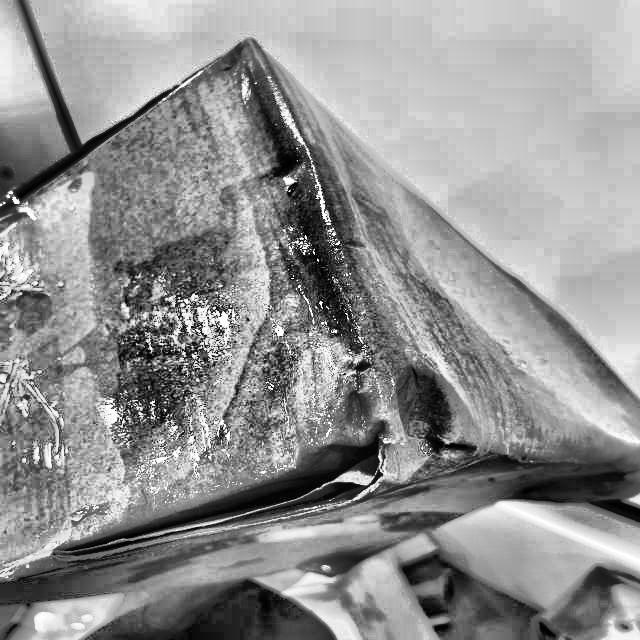box: (0, 34, 640, 601)
wet: (74, 82, 639, 554)
